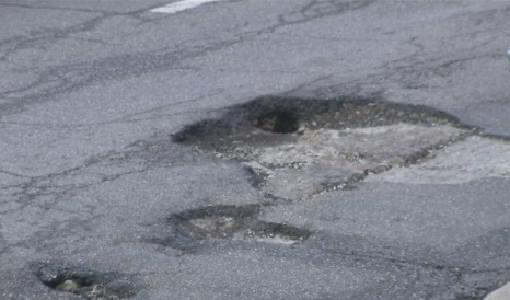pothole: (168, 92, 482, 201), (159, 202, 313, 247), (29, 260, 148, 299)
